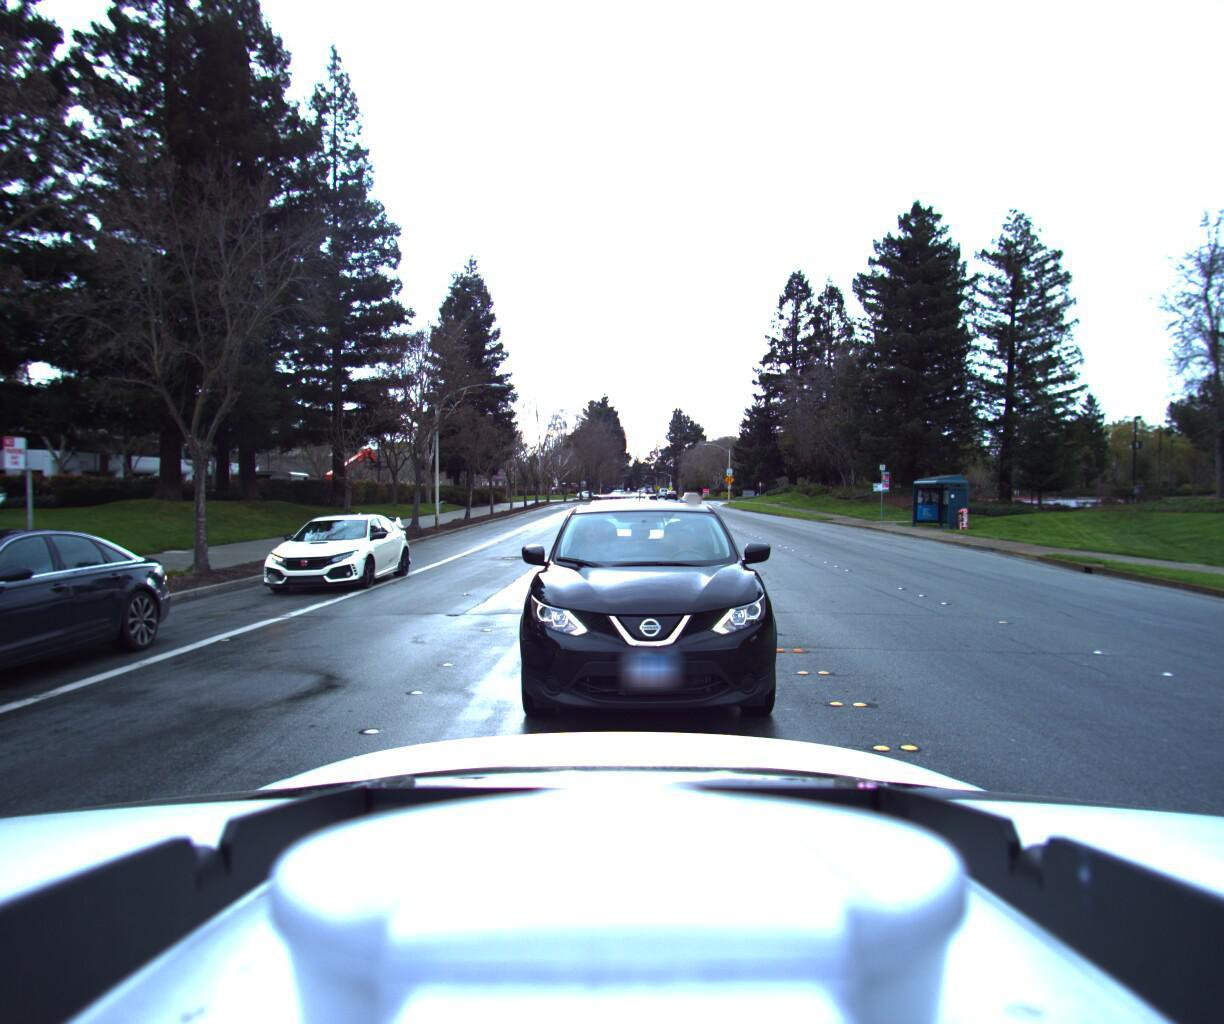car: (500, 501, 807, 757), (0, 520, 175, 752), (251, 513, 413, 599), (566, 493, 688, 600), (679, 491, 703, 505)
